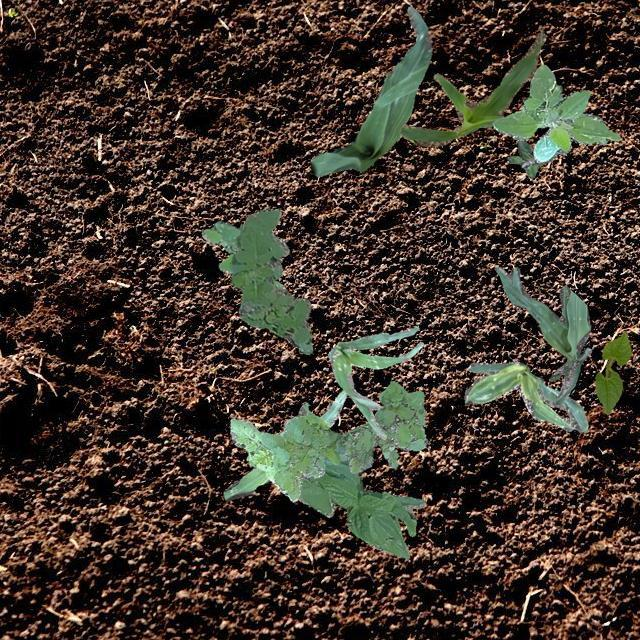crop: (310, 6, 430, 176), (398, 26, 544, 146), (224, 388, 346, 499), (494, 266, 590, 406), (296, 457, 424, 558), (492, 64, 620, 162), (326, 324, 422, 438), (462, 359, 586, 432), (594, 332, 630, 414)
weed: (229, 380, 426, 500), (228, 208, 312, 354), (200, 220, 284, 288), (506, 138, 554, 176)
